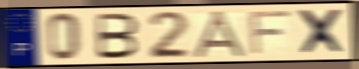0: (46, 11, 86, 62)
2: (147, 10, 192, 60)
A: (190, 9, 252, 59)
B: (95, 12, 141, 60)
F: (248, 9, 294, 57)
X: (294, 8, 349, 57)
